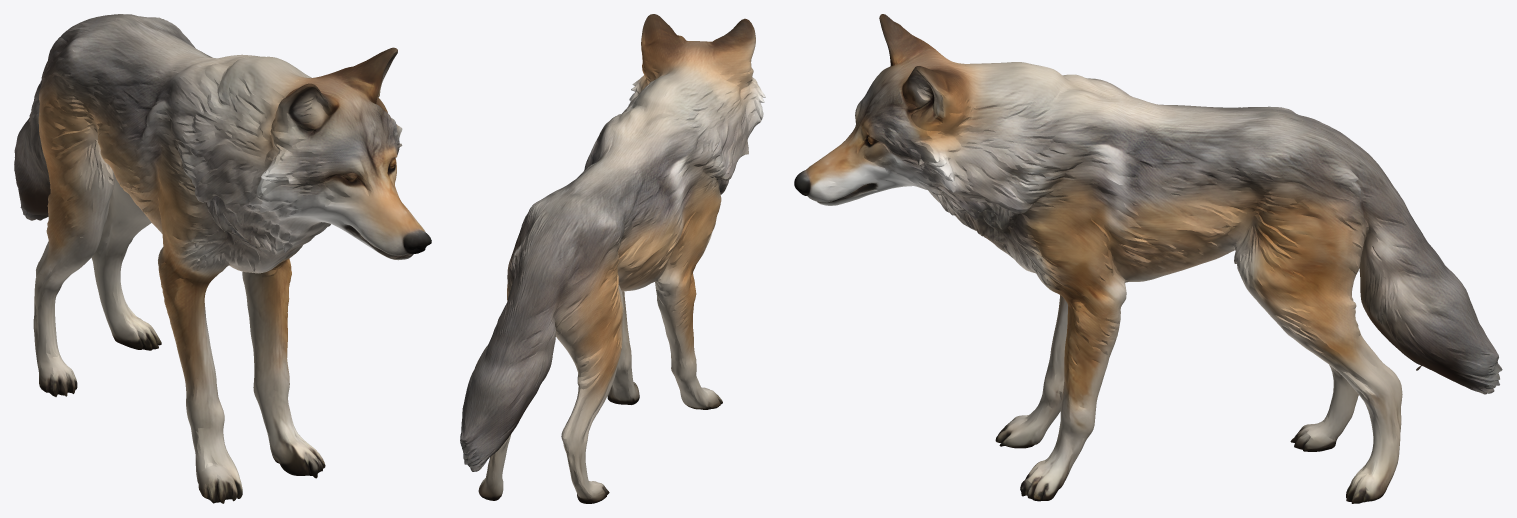
Rendered from source.glb.
3 renders of one model, left to right at view 1: azimuth 30°, elevation 25°; view 2: azimuth 150°, elevation 25°; view 3: azimuth 270°, elevation 25°, orthographic. The views are drawn at different scales.
Parts seen in each view (by area): view 1: model; view 2: model; view 3: model.
Boxes of the visible parts, left/top/right/bottom form: model: left=14, top=14, right=431, bottom=503; model: left=460, top=14, right=765, bottom=503; model: left=794, top=14, right=1502, bottom=503.
Bounding box in the file's own units: 0.4919 × 1.31 × 1.9.
Materials: 1 (1 with a texture image).
